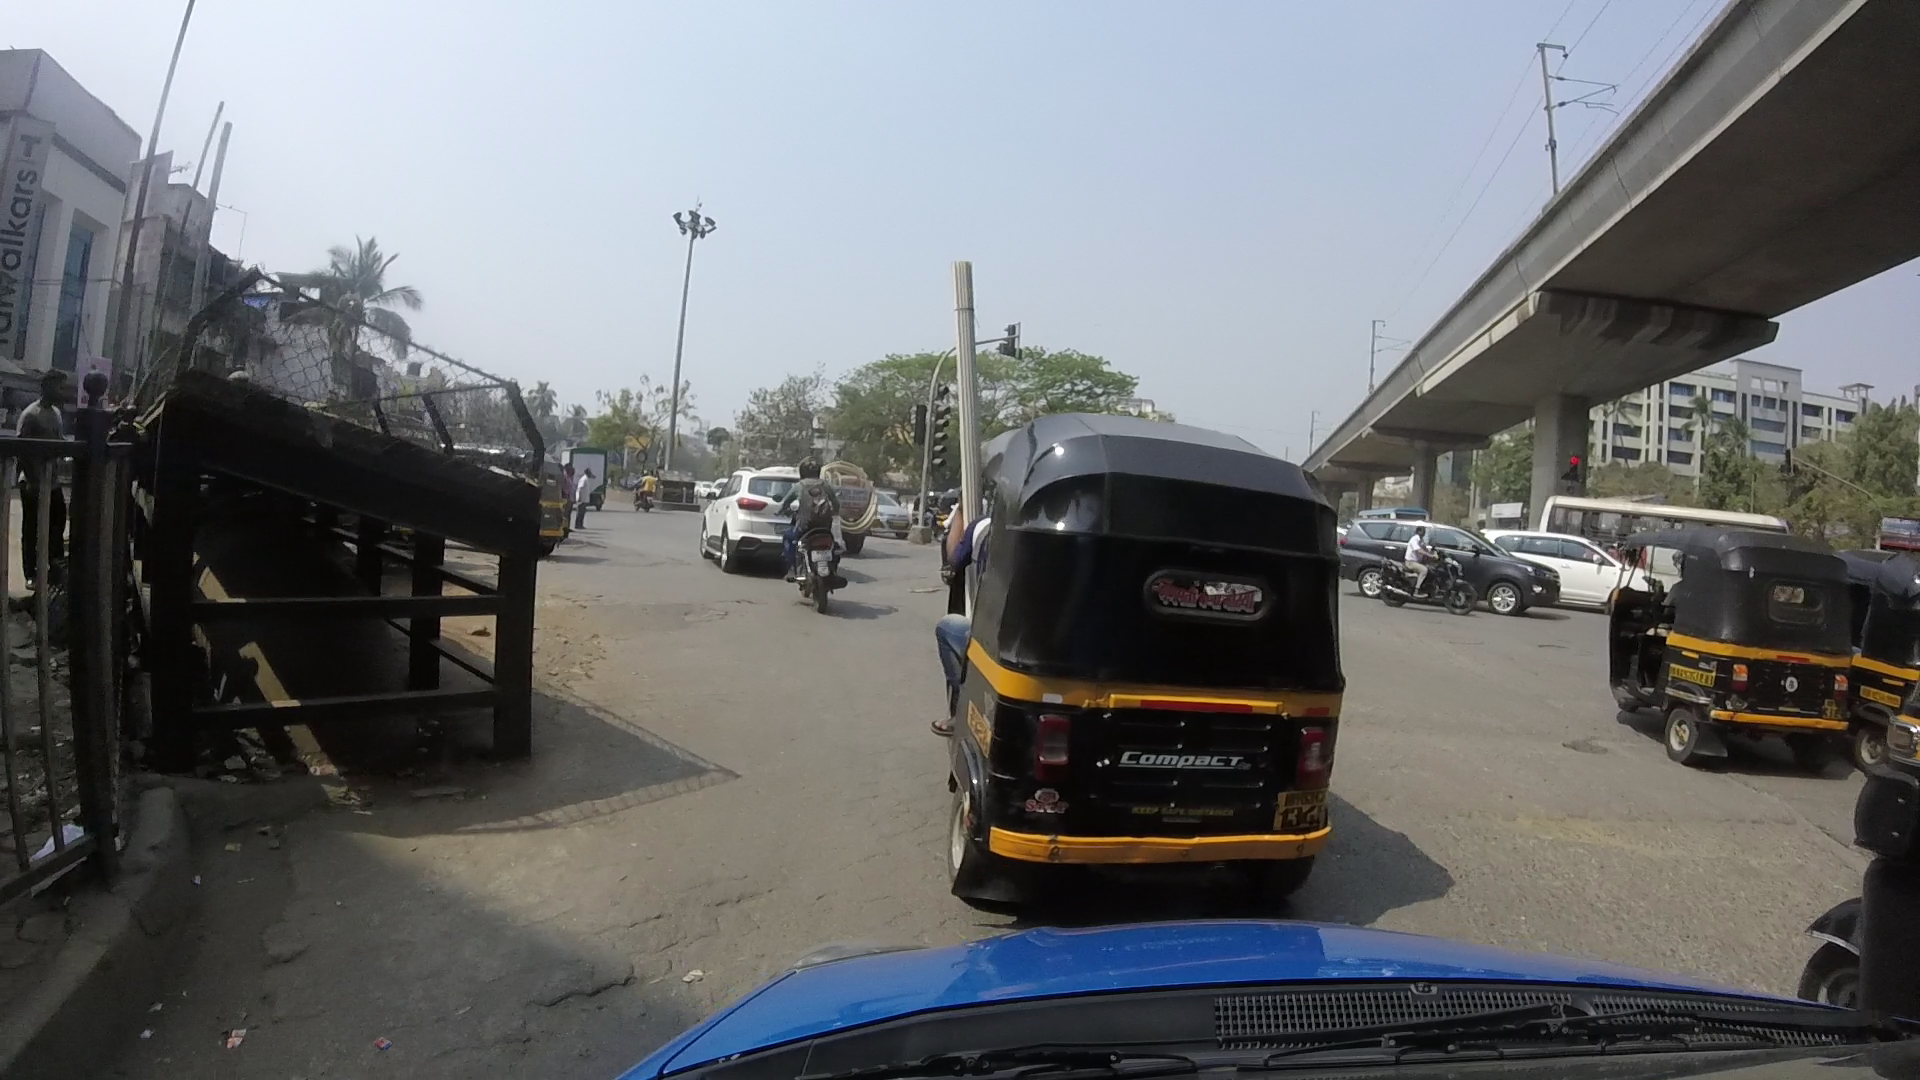bike/scooter: (1358, 518, 1476, 615), (781, 452, 856, 596)
car: (1487, 491, 1660, 616), (1358, 493, 1563, 587), (694, 443, 794, 564)
rickshaw: (922, 276, 1367, 889), (1594, 512, 1855, 781)
